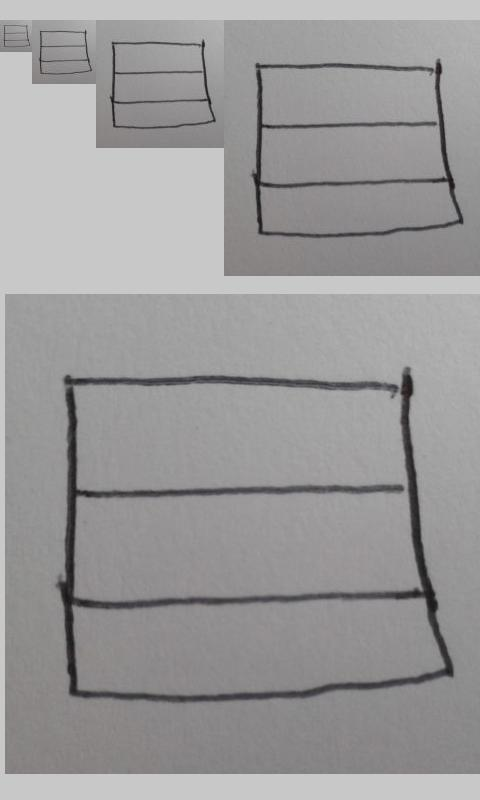list_view: (59, 372, 443, 707), (253, 62, 464, 239), (110, 39, 216, 130), (39, 30, 93, 75), (3, 24, 30, 48)
